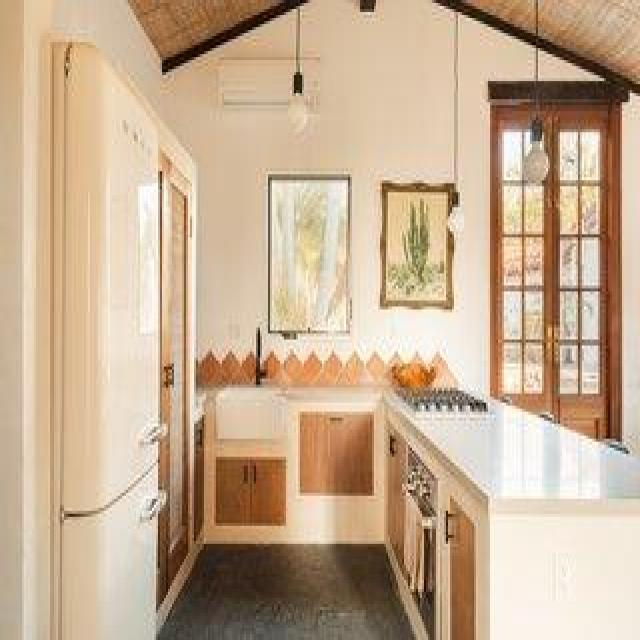dishwasher: (398, 435, 443, 640)
